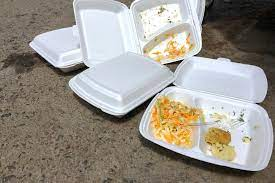styrofoam: (138, 55, 273, 172), (71, 5, 201, 66)
